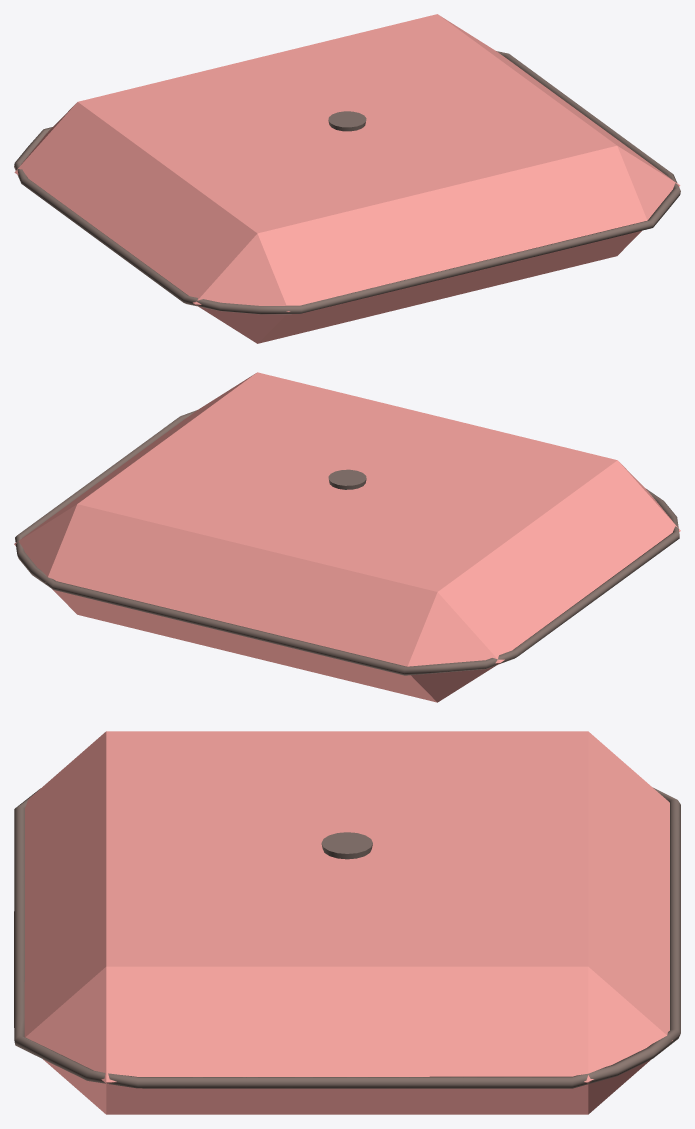
The picture shows the model from 3 angles, top to bottom: view 1: azimuth 30°, elevation 25°; view 2: azimuth 150°, elevation 25°; view 3: azimuth 270°, elevation 25°; orthographic projection. The views are drawn at different scales.
Visible parts, largest first — view 1: pillow-native-cushion, pillow-piping, pillow-button; view 2: pillow-native-cushion, pillow-piping, pillow-button; view 3: pillow-native-cushion, pillow-piping, pillow-button.
Part boxes in pixels (x1,y1,x2,y2): pillow-native-cushion: [14, 14, 680, 343]; pillow-piping: [14, 51, 680, 314]; pillow-button: [328, 111, 366, 131]; pillow-native-cushion: [14, 372, 680, 702]; pillow-piping: [15, 410, 679, 675]; pillow-button: [328, 469, 366, 489]; pillow-native-cushion: [24, 731, 672, 1114]; pillow-piping: [14, 787, 680, 1088]; pillow-button: [321, 832, 372, 859].
Bounding box in the file's own units: 0.3571 × 0.079 × 0.3102.
